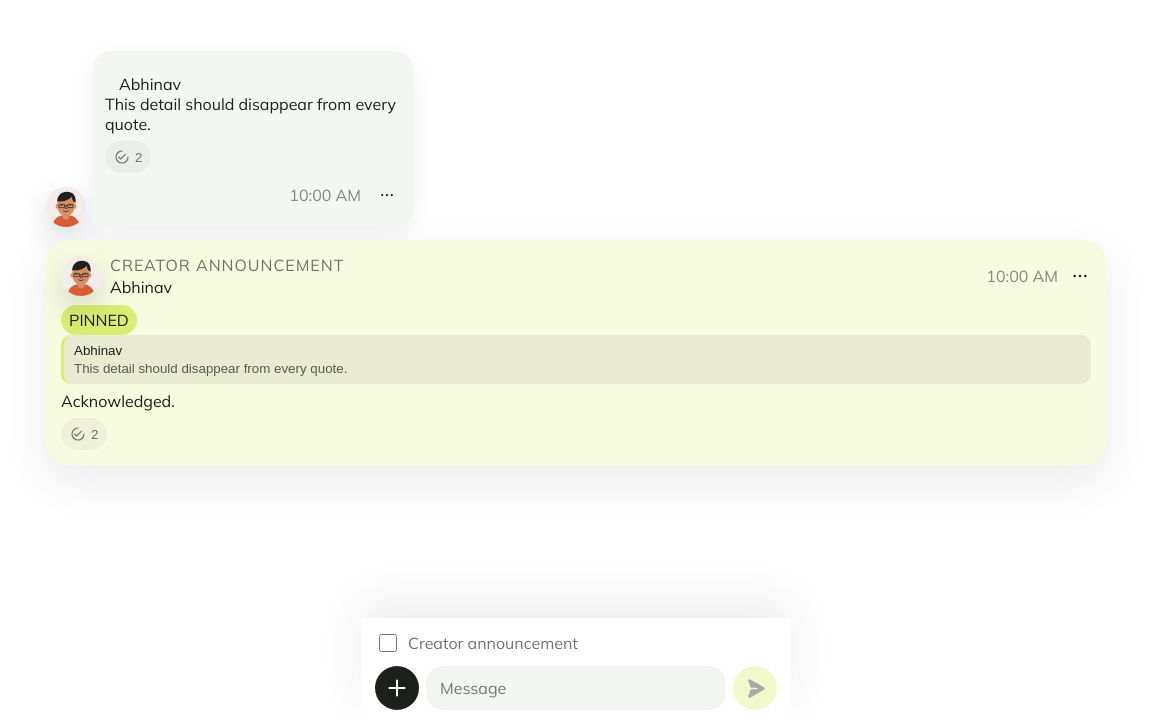
Test: Pod room › redacts local reply previews when the creator hides their target
Expected: the element with id "member-visible" is shown, [93,51,413,227]
Click the 1st button named "More actions for Abhinav": (387, 195) [365,173,409,217]
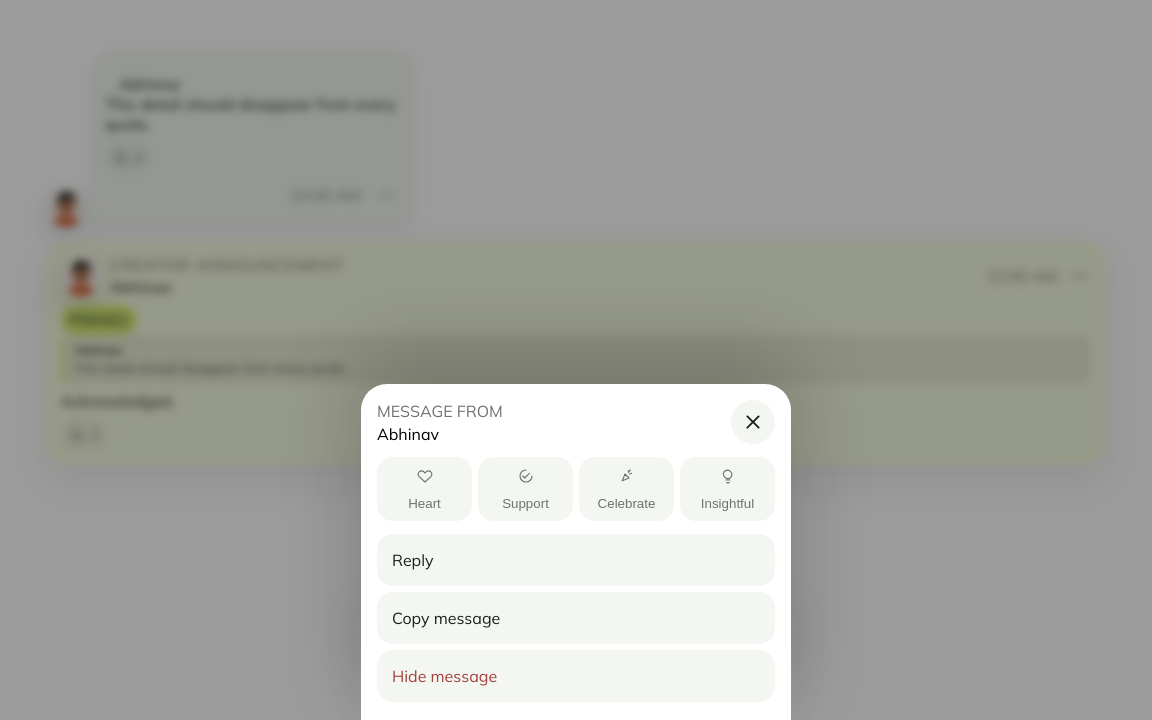
Click the button "Hide message": (445, 676) [377,650,775,702]
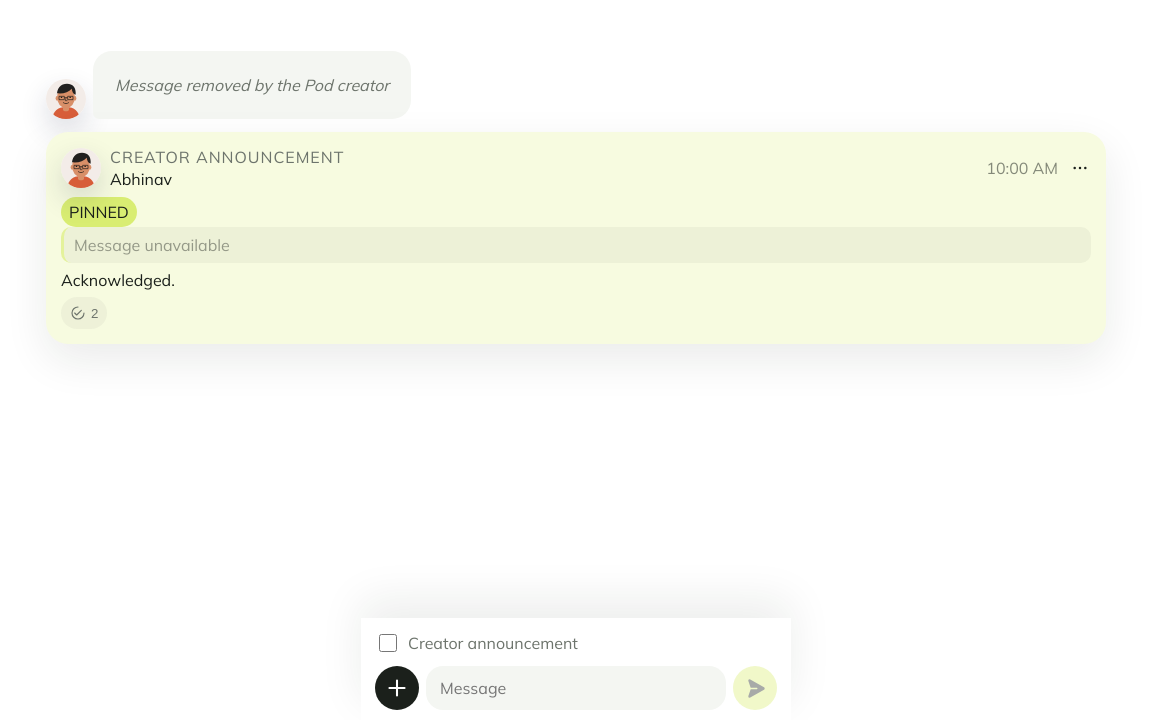
Now the text "Message unavailable" is shown, box [74,235,230,255]
Now the text "This detail should disappear from every quote." is gone
